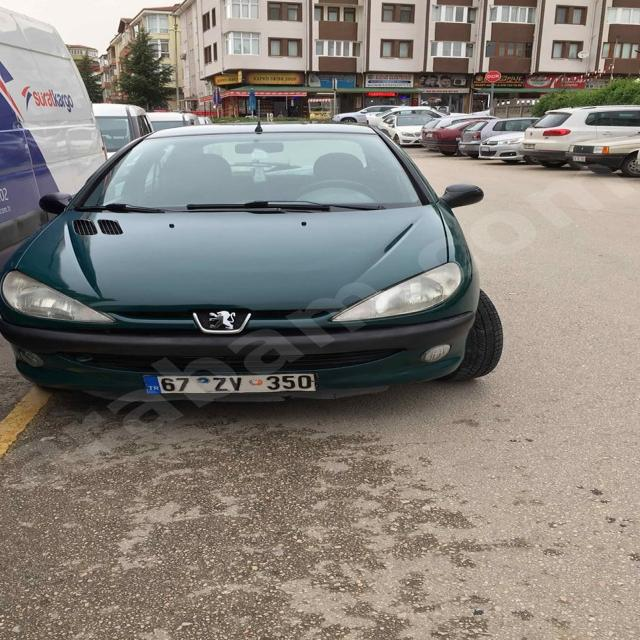license_plate: (142, 372, 316, 394)
